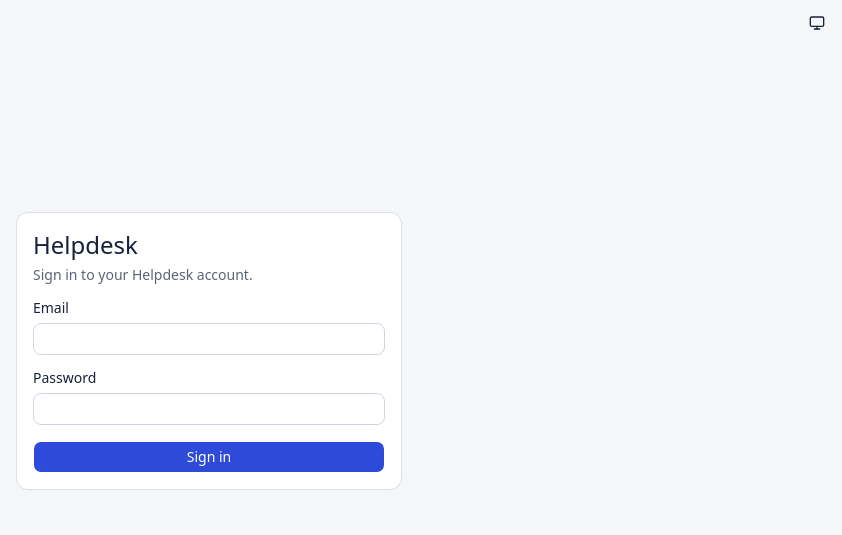
Test: LoginPage › flags both empty fields without signing in
This screenshot has width=842, height=535.
Click the button "Sign in": (209, 457) [33, 441, 385, 473]
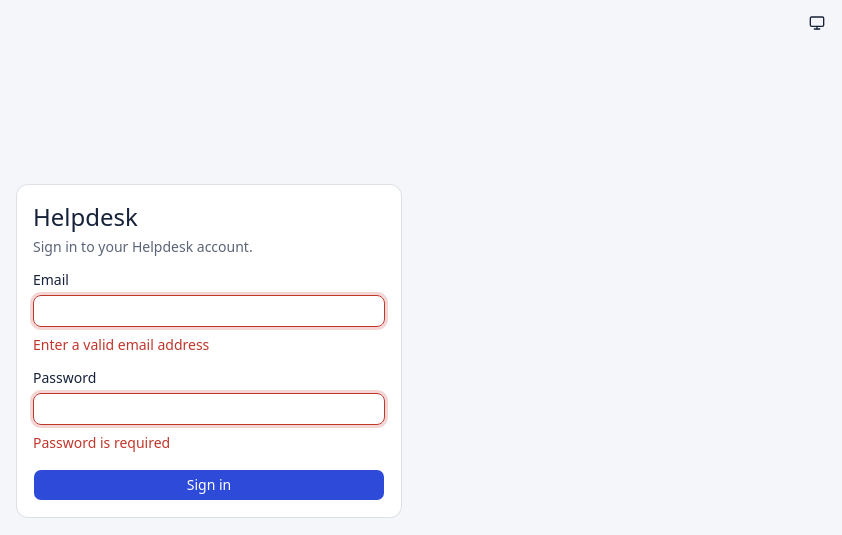
Now the text "Enter a valid email address" is shown, box [33, 335, 209, 354]
Now the text "Password is required" is shown, box [33, 433, 170, 452]
